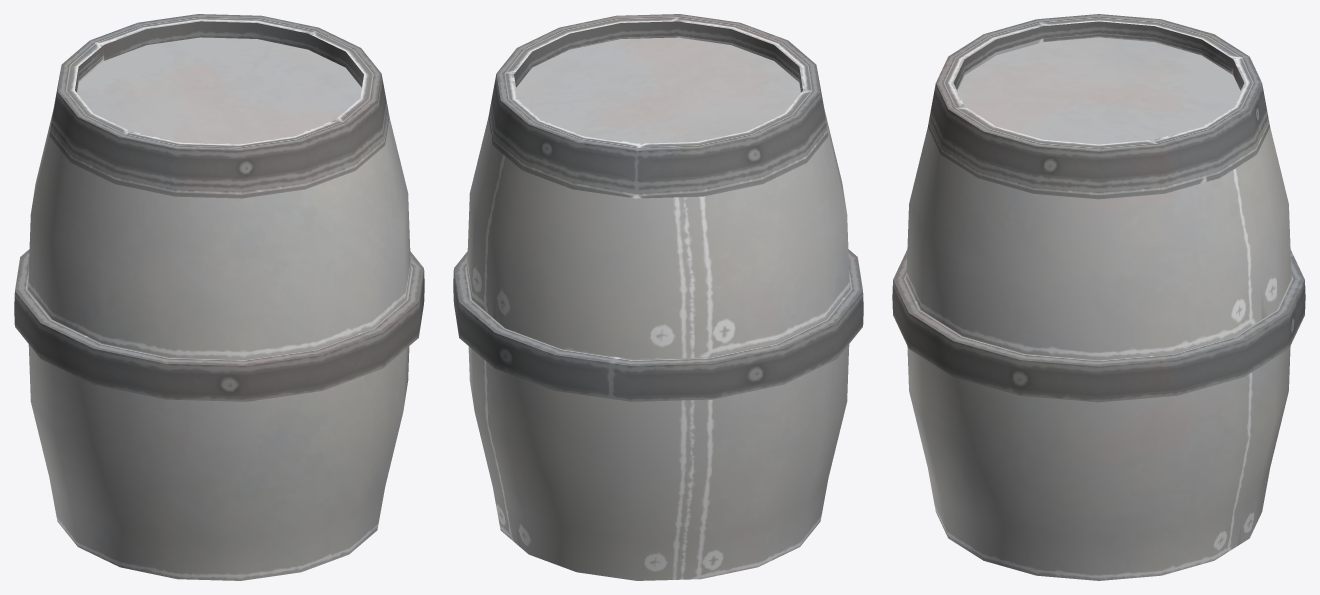
Rendered from SM_Barrel.fbx.
3 views of the same model, side by side, from view 1: azimuth 30°, elevation 25°; view 2: azimuth 150°, elevation 25°; view 3: azimuth 270°, elevation 25° (orthographic).
Visible parts, largest first — view 1: SM_Barrel; view 2: SM_Barrel; view 3: SM_Barrel.
Boxes of the visible parts, left/top/right/bottom form: SM_Barrel: left=14, top=14, right=424, bottom=580; SM_Barrel: left=453, top=14, right=863, bottom=580; SM_Barrel: left=892, top=14, right=1305, bottom=580.
Bounding box in the file's own units: 111 × 127 × 111.
